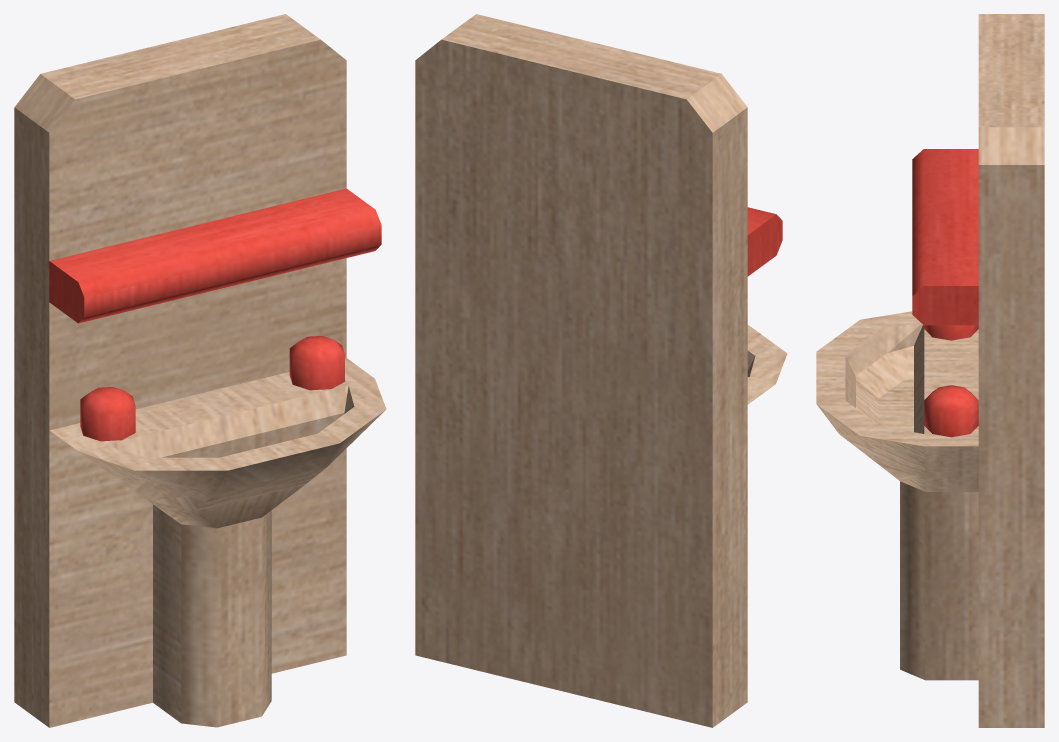
File: sink.FBX
3 views of the same model, side by side, from view 1: azimuth 30°, elevation 25°; view 2: azimuth 150°, elevation 25°; view 3: azimuth 270°, elevation 25° (orthographic). The views are drawn at different scales.
Visible parts, largest first — view 1: sink; view 2: sink; view 3: sink.
Part boxes in pixels (x1=…): sink: x1=14, y1=14, x2=386, y2=727; sink: x1=415, y1=14, x2=787, y2=727; sink: x1=816, y1=14, x2=1044, y2=727.
Size of the model in its own units: 50 by 100 by 35.19.
